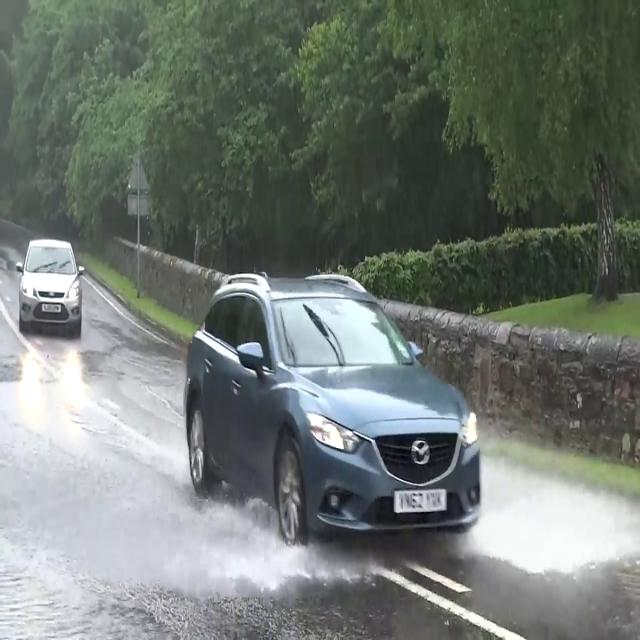license-plate-annotation: (390, 486, 454, 519)
